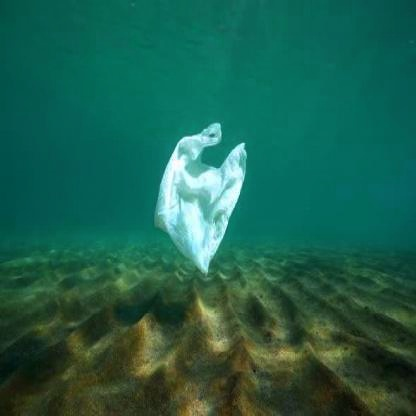pbag: (150, 106, 248, 270)
